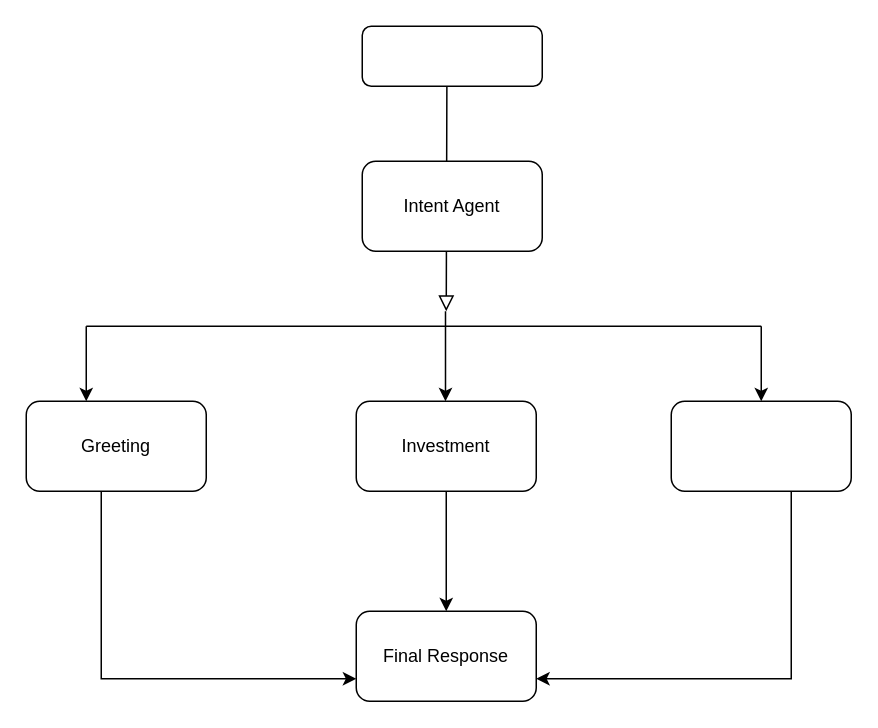
Image size: 878x728. Some labels were removed from this diagram. The centre of each missing label's shape, as x and y in pixels:
"OutOfScope" goes at point (760, 445).
"User Query" goes at point (451, 55).
